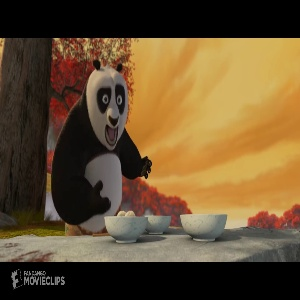po: (49, 55, 155, 237)
